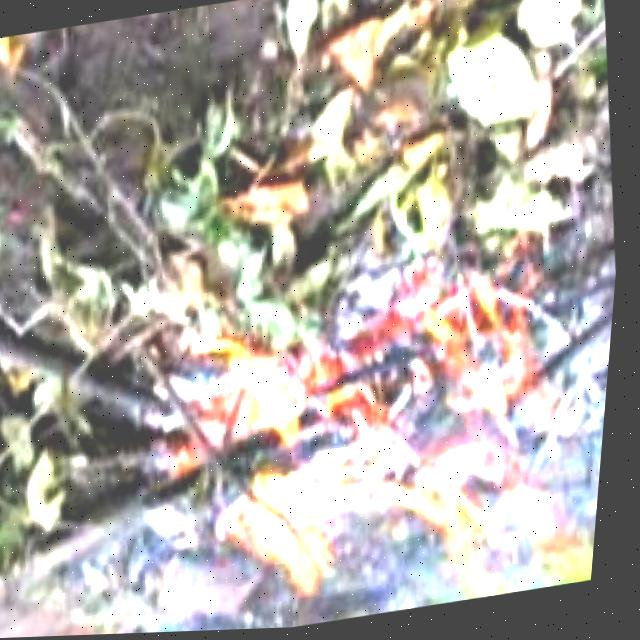Fire: (172, 288, 597, 621)
